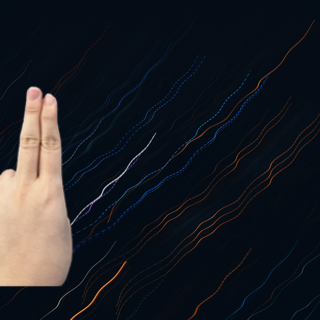DHAVE: (1, 82, 74, 284)
